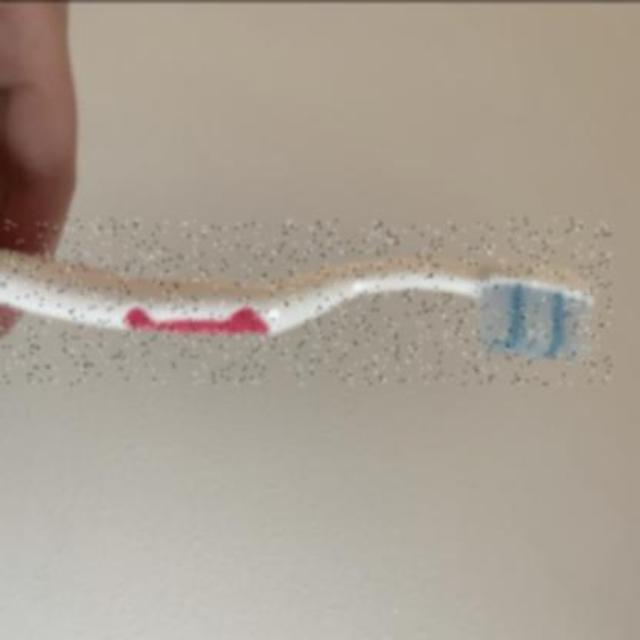toothbrush: (0, 217, 610, 383)
